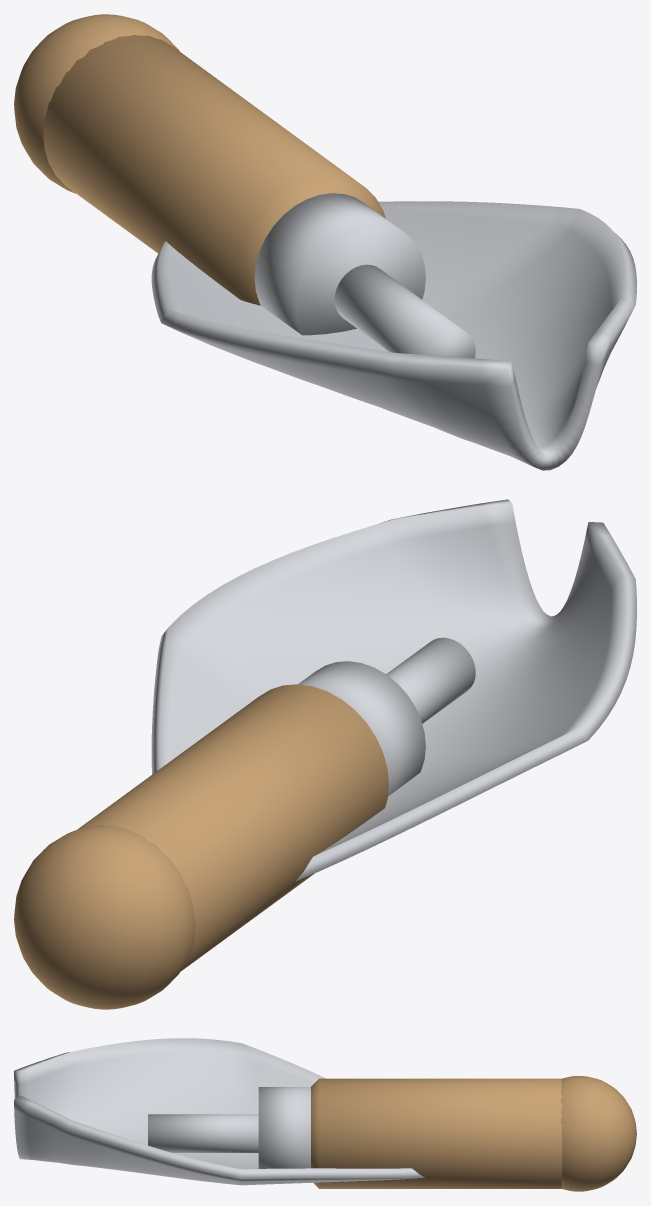
The model's file is Palita.glb.
3 views of the same model, one above another, from view 1: azimuth 30°, elevation 25°; view 2: azimuth 150°, elevation 25°; view 3: azimuth 270°, elevation 25° (orthographic). The views are drawn at different scales.
Parts seen in each view (by area): view 1: Pala_Scoop, Pala_Handle, Pala_Ferrule, Pala_Tang, Pala_HandleCap; view 2: Pala_Scoop, Pala_Handle, Pala_HandleCap, Pala_Ferrule, Pala_Tang; view 3: Pala_Scoop, Pala_Handle, Pala_HandleCap, Pala_Ferrule, Pala_Tang.
Part boxes in pixels (left/top/right/bottom): Pala_Scoop: left=151, top=201, right=636, bottom=470; Pala_Handle: left=43, top=34, right=385, bottom=305; Pala_Ferrule: left=254, top=193, right=425, bottom=335; Pala_Tang: left=334, top=264, right=475, bottom=358; Pala_HandleCap: left=14, top=14, right=179, bottom=193; Pala_Scoop: left=151, top=499, right=636, bottom=881; Pala_Handle: left=77, top=684, right=388, bottom=971; Pala_HandleCap: left=14, top=825, right=195, bottom=1009; Pala_Ferrule: left=298, top=661, right=425, bottom=796; Pala_Tang: left=386, top=637, right=475, bottom=723; Pala_Scoop: left=14, top=1038, right=424, bottom=1185; Pala_Handle: left=311, top=1078, right=562, bottom=1188; Pala_HandleCap: left=560, top=1076, right=636, bottom=1191; Pala_Ferrule: left=258, top=1087, right=310, bottom=1168; Pala_Tang: left=148, top=1114, right=258, bottom=1152.
Bounding box in the file's own units: 0.5606 × 0.21 × 1.13.
